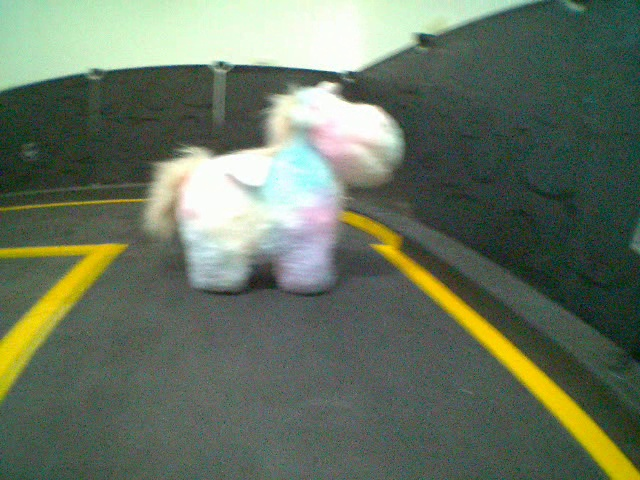unicorn: (141, 76, 405, 300)
